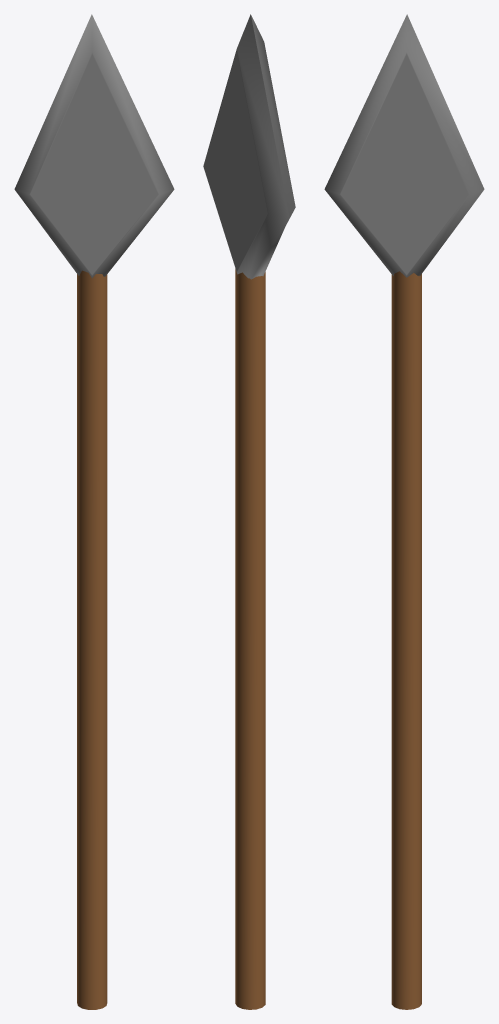
File: Spear.fbx
The picture shows the model from 3 angles, left to right: view 1: azimuth 90°, elevation 25°; view 2: azimuth 210°, elevation 25°; view 3: azimuth 270°, elevation 25°; orthographic projection.
Visible parts, largest first — view 1: Spear; view 2: Spear; view 3: Spear.
Part boxes in pixels (x1,y1,x2,y2): Spear: (14,14,174,1009); Spear: (203,14,295,1009); Spear: (324,14,484,1009).
Bounding box in the file's own units: 34.08 × 1177 × 173.
